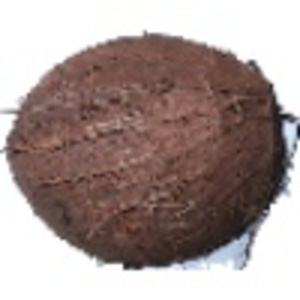coco: (1, 33, 300, 272)
